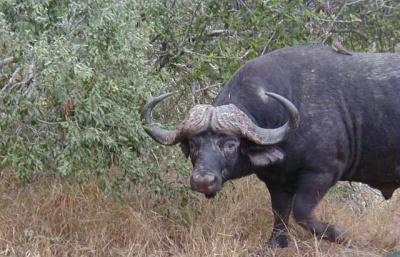buffalo: (146, 44, 400, 248)
